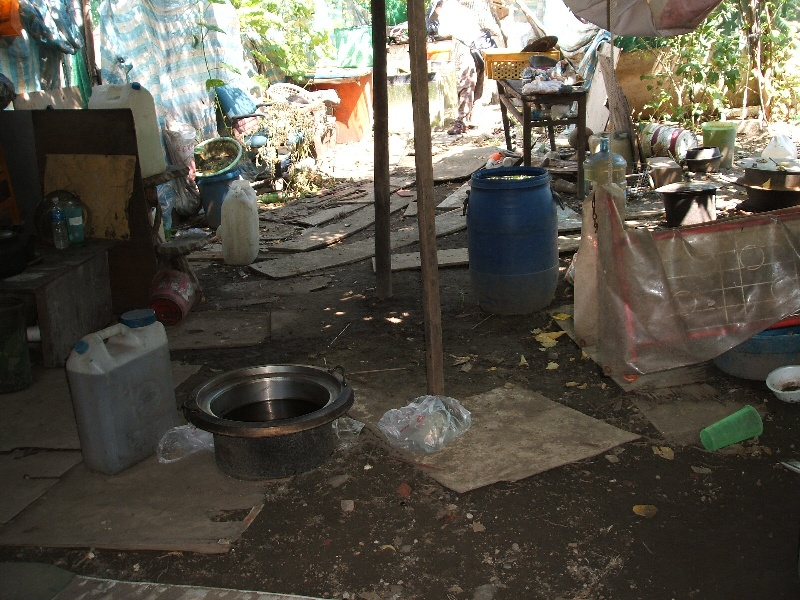bottle: (699, 402, 765, 454), (63, 204, 86, 245), (50, 196, 65, 249)
bowl: (191, 135, 244, 180), (763, 362, 800, 405)
bucket: (183, 360, 357, 482), (65, 307, 180, 478), (463, 164, 562, 320), (89, 81, 167, 178), (144, 266, 203, 328), (219, 179, 257, 266), (633, 120, 699, 163), (700, 119, 738, 170), (684, 144, 725, 176)
plastic_bag: (376, 392, 474, 456)
